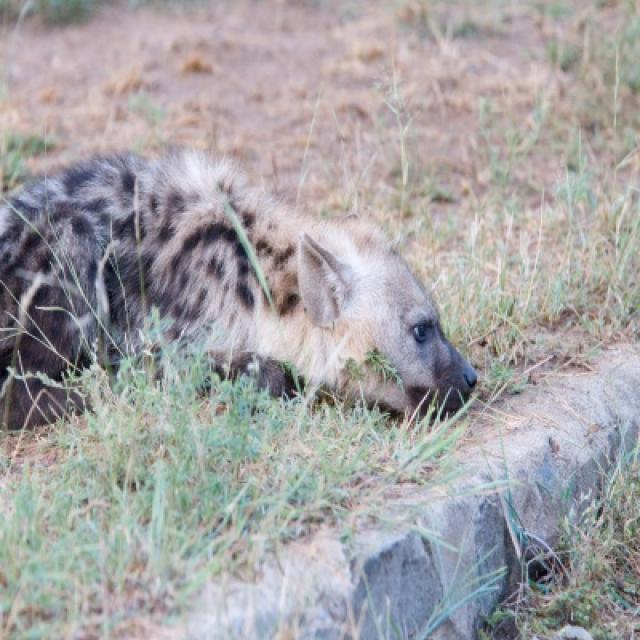hyena: (0, 149, 475, 426)
